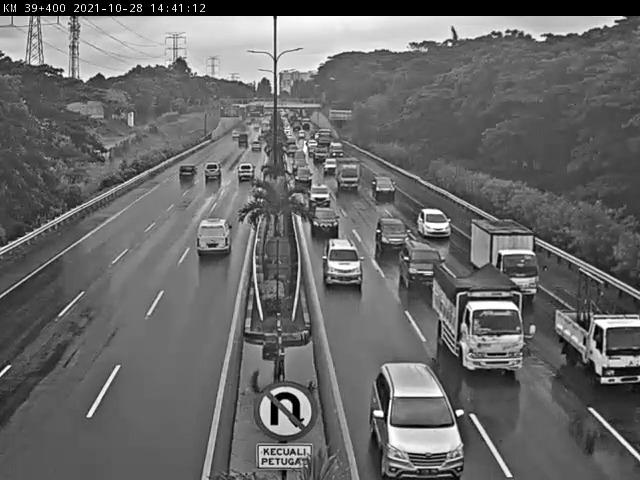car: (370, 362, 466, 480), (397, 240, 444, 292), (322, 238, 364, 287), (195, 218, 234, 259), (373, 217, 412, 252), (415, 208, 453, 241), (310, 205, 340, 236)
mid truck: (434, 262, 526, 374), (554, 308, 640, 387), (472, 221, 538, 302), (307, 183, 333, 208)
